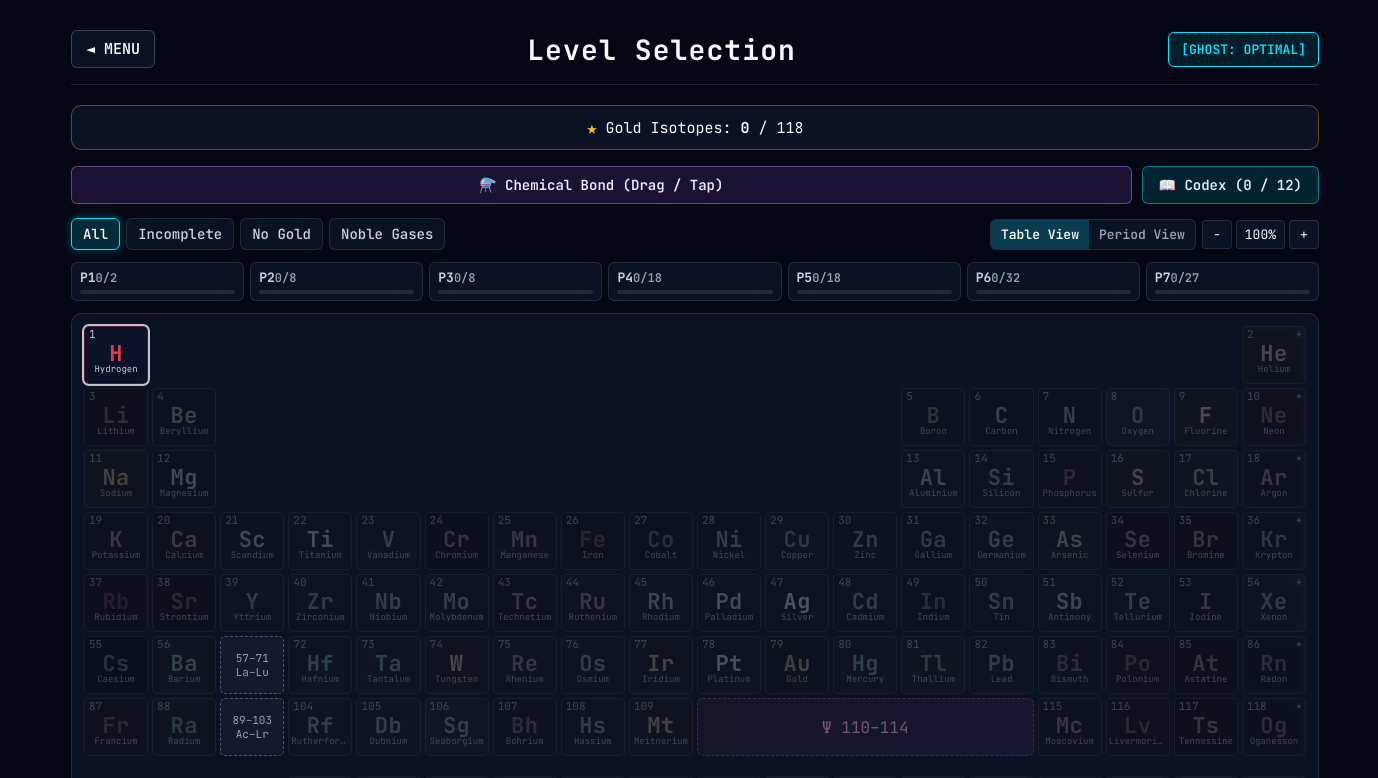
Scenario: LevelSelection component › allows clicking unlocked level 1 to select it and navigate
Click the button "1 H Hydrogen" at point(116, 355), box x1=84 y1=326 x2=148 y2=384
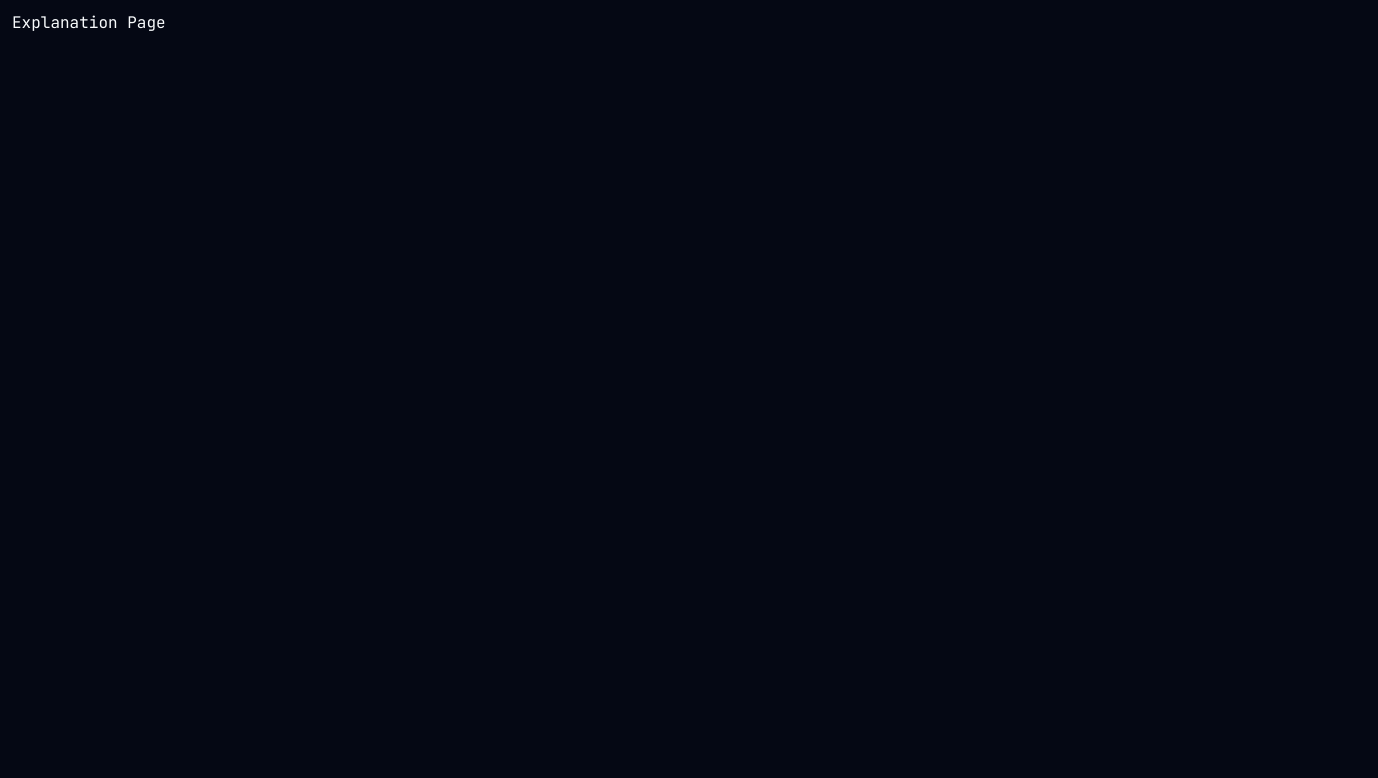
Expected: the text "Explanation Page" is shown, x1=12 y1=12 x2=166 y2=33
